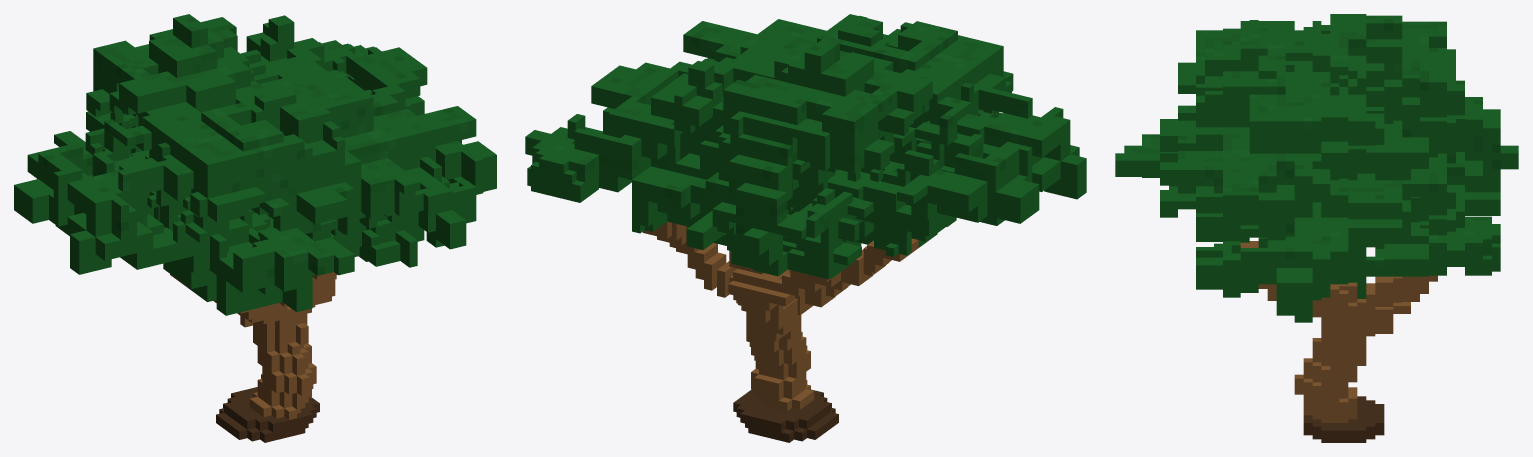
The model's file is 2_2 gravi.obj.
3 renders of one model, left to right at view 1: azimuth 30°, elevation 25°; view 2: azimuth 150°, elevation 25°; view 3: azimuth 270°, elevation 25°, orthographic. The views are drawn at different scales.
Size of the model in its own units: 5.4 by 4.7 by 4.5.
Materials: 1 (1 with a texture image).
